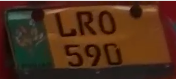LRO590: (3, 2, 173, 77)
